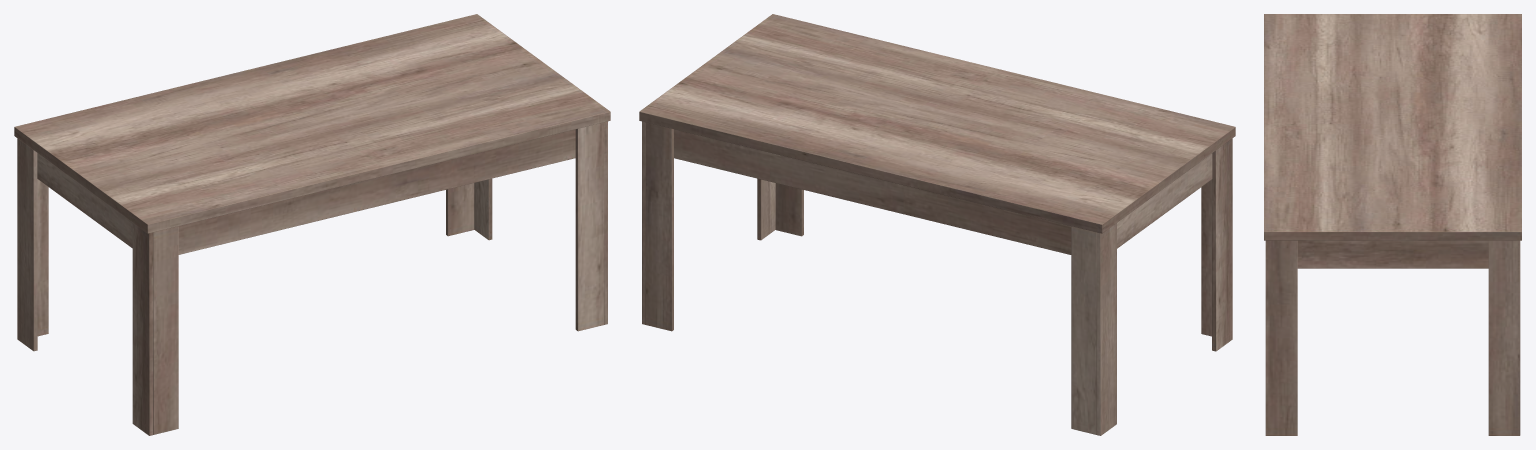
3 renders of one model, left to right at view 1: azimuth 30°, elevation 25°; view 2: azimuth 150°, elevation 25°; view 3: azimuth 270°, elevation 25°, orthographic. The views are drawn at different scales.
Visible parts, largest first — view 1: B07H8SK66F; view 2: B07H8SK66F; view 3: B07H8SK66F.
Part boxes in pixels (x1=…): B07H8SK66F: x1=14, y1=14, x2=610, y2=435; B07H8SK66F: x1=639, y1=14, x2=1235, y2=435; B07H8SK66F: x1=1264, y1=14, x2=1521, y2=435.
Bounding box in the file's own units: 1.8 × 0.7899 × 0.8999.
Materials: 1 (1 with a texture image).
